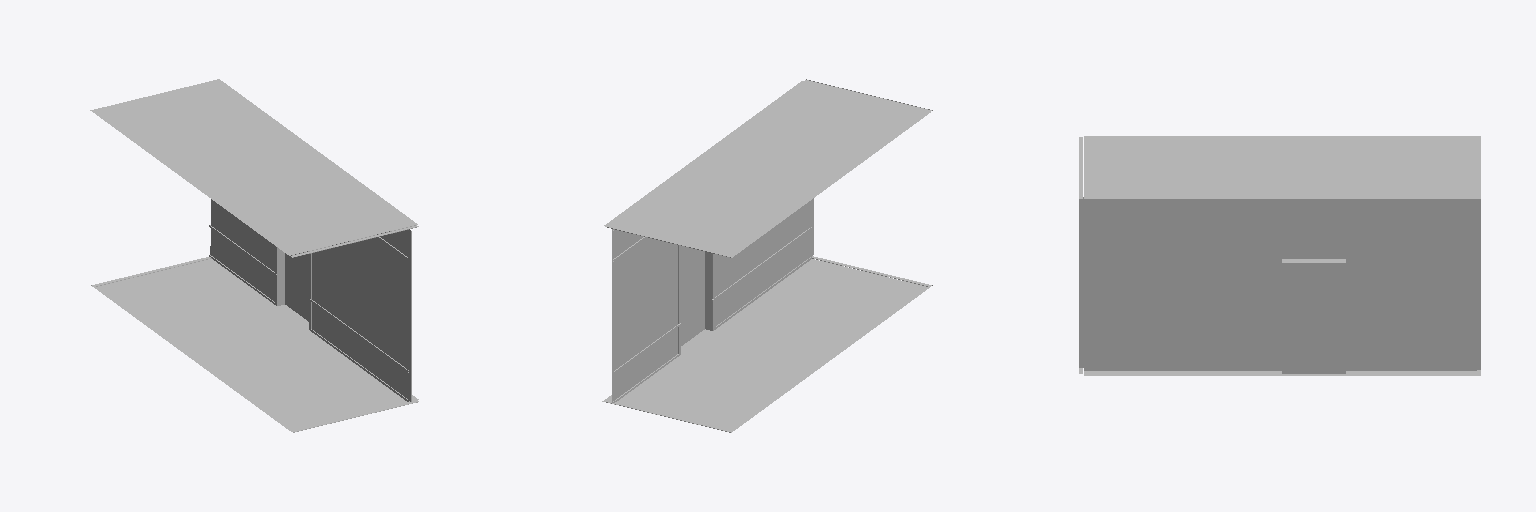
The model's file is wall_05_rt.obj.
3 views of the same model, side by side, from view 1: azimuth 30°, elevation 25°; view 2: azimuth 150°, elevation 25°; view 3: azimuth 270°, elevation 25° (orthographic).
Parts seen in each view (by area): view 1: wall_05_rt; view 2: wall_05_rt; view 3: wall_05_rt.
Boxes of the visible parts, x1,y1,x2,y2 form: wall_05_rt: [90, 79, 418, 432]; wall_05_rt: [602, 79, 932, 432]; wall_05_rt: [1079, 136, 1480, 375].
Bounding box in the file's own units: 184 × 238 × 493.